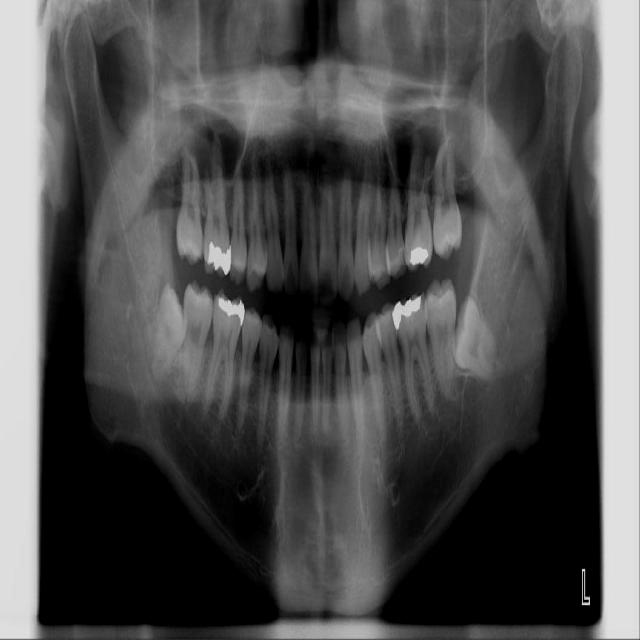Filling: (392, 294, 422, 330), (207, 241, 233, 276), (215, 296, 246, 325), (409, 245, 430, 267)
impacted tooth: (454, 298, 502, 381), (153, 285, 185, 381)
